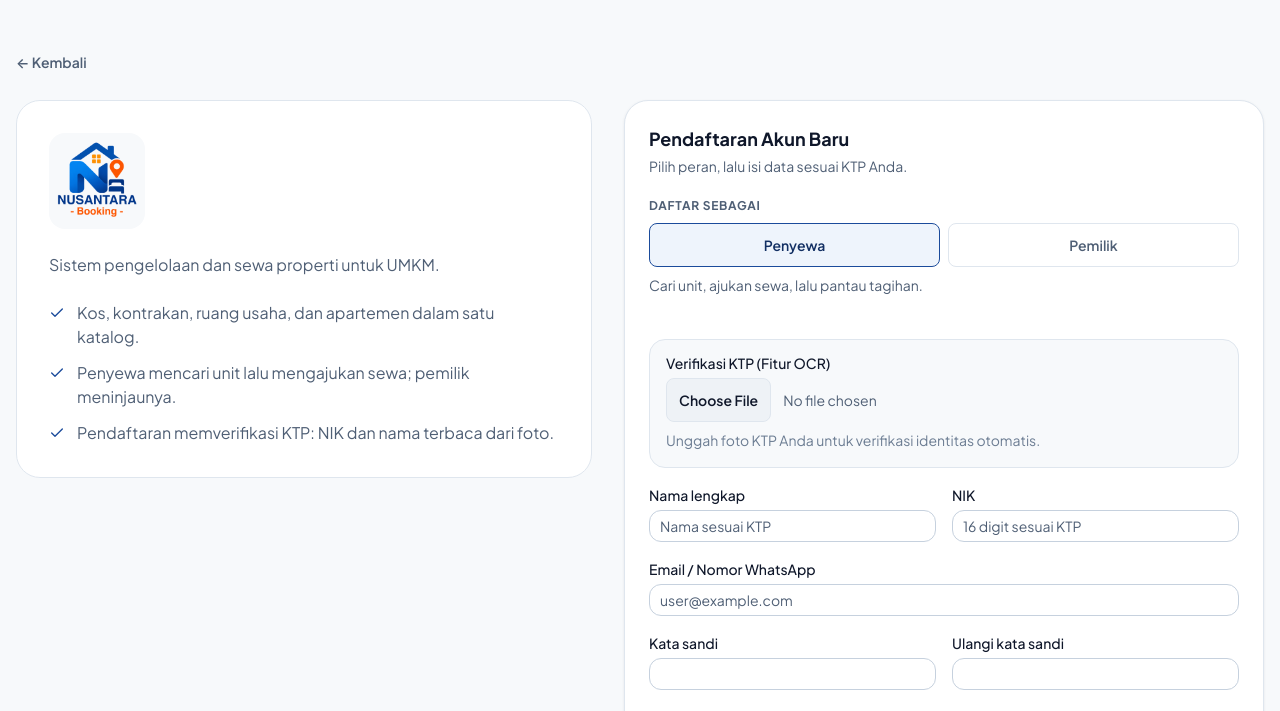
it: RegisterPage › menolak pendaftaran bila NIK bukan 16 digit
This screenshot has width=1280, height=711.
Type "Budi Santoso" into the field labelled "Nama lengkap" at {"x": 792, "y": 526}, box [649,510,936,542]
Type "3578123456780001" into the field labelled "NIK" at {"x": 1096, "y": 526}, box [952,510,1239,542]
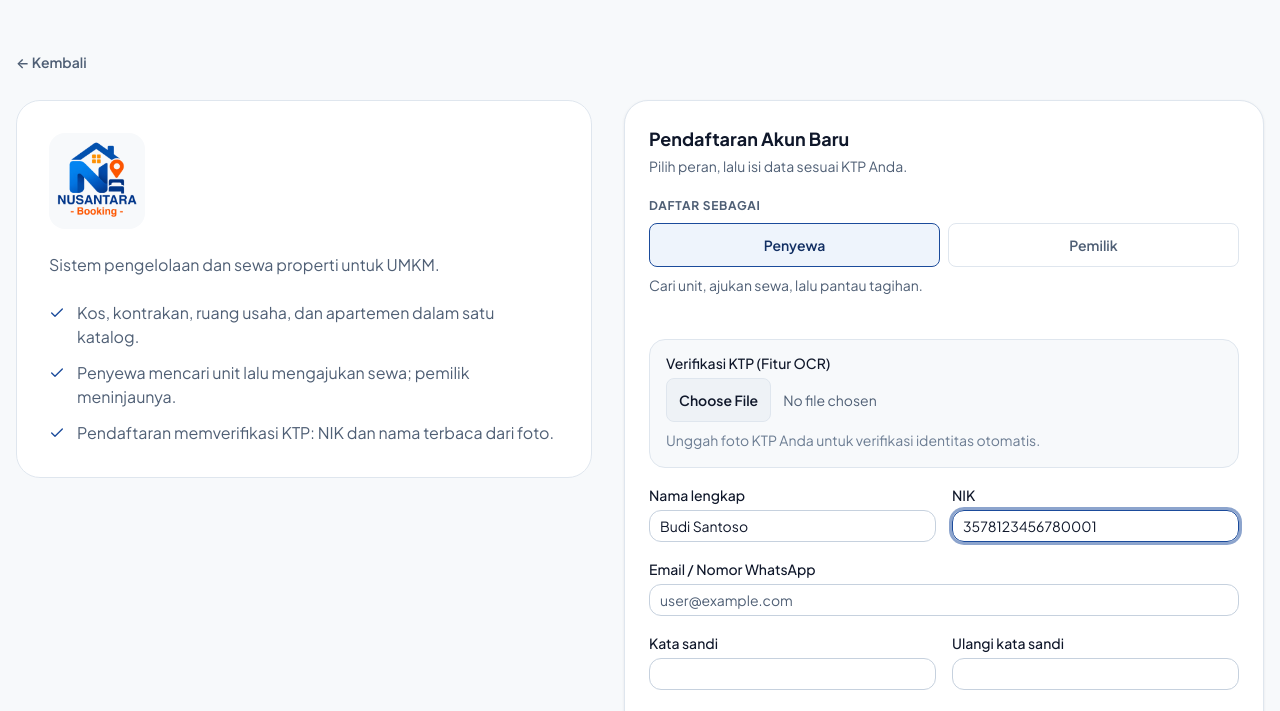
Type "baru@mail.com" into the field labelled "Email / Nomor WhatsApp" at {"x": 944, "y": 600}, box [649,584,1239,616]
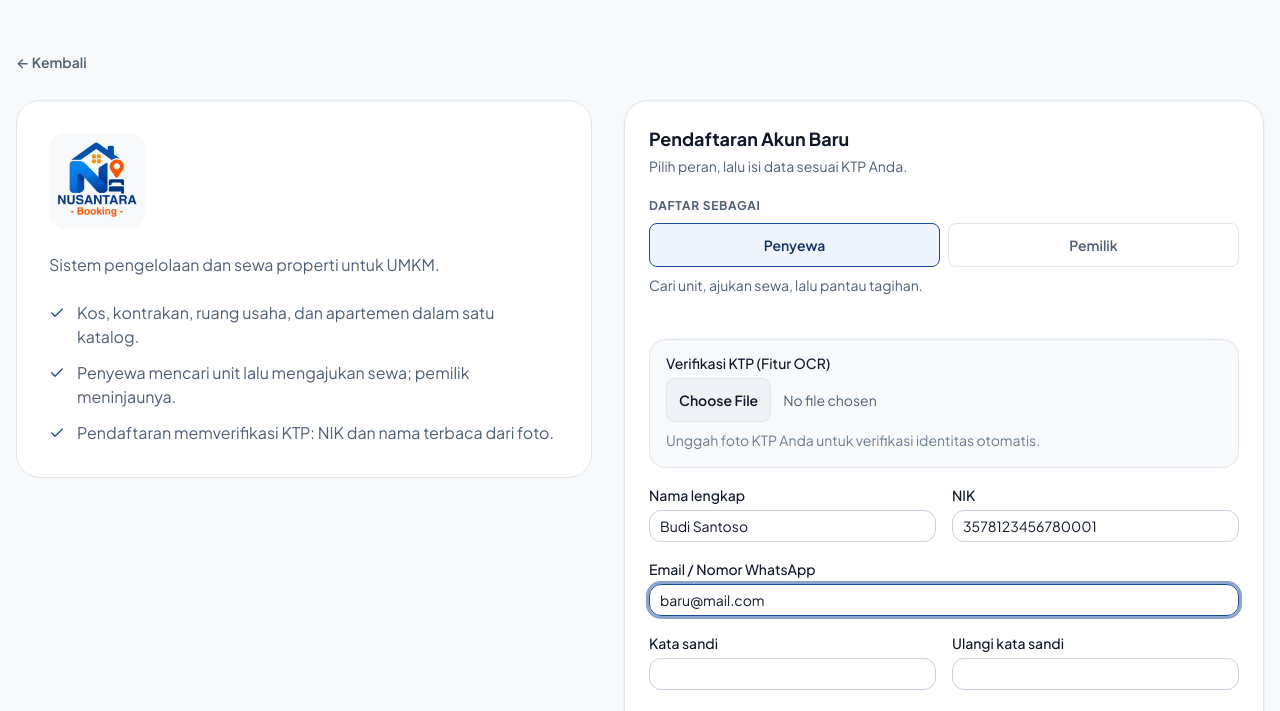
Type "rahasia123" into the password field labelled "Kata sandi" at {"x": 792, "y": 674}, box [649,658,936,690]
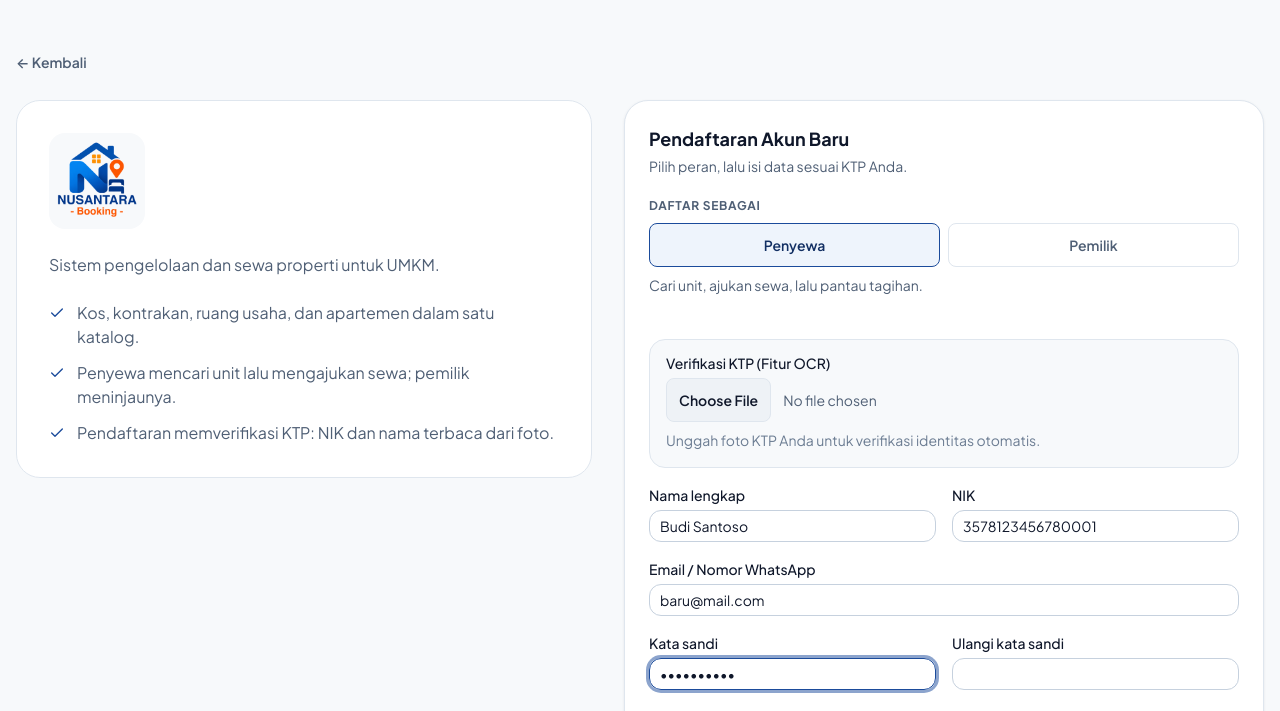
Type "rahasia123" into the password field labelled "Ulangi kata sandi" at {"x": 1096, "y": 674}, box [952,658,1239,690]
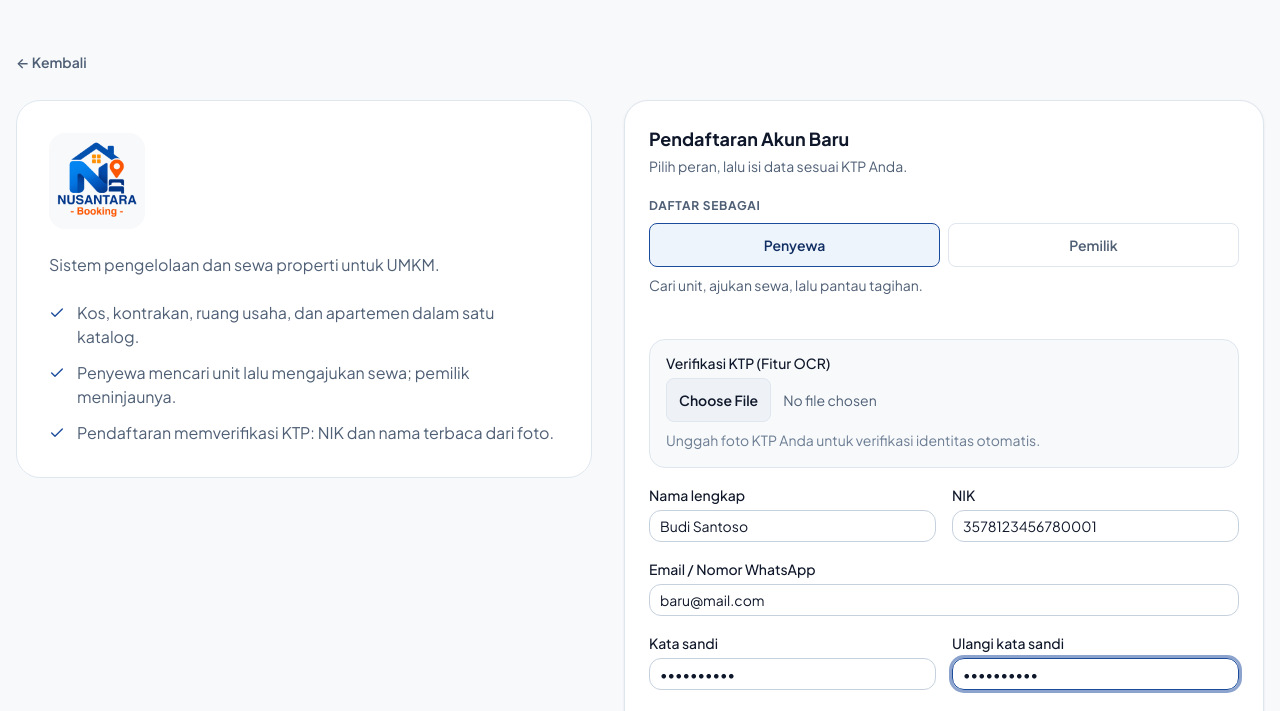
Replace the text in the field labelled "NIK" with "123" at {"x": 1096, "y": 526}, box [952,510,1239,542]
(page scrolled)
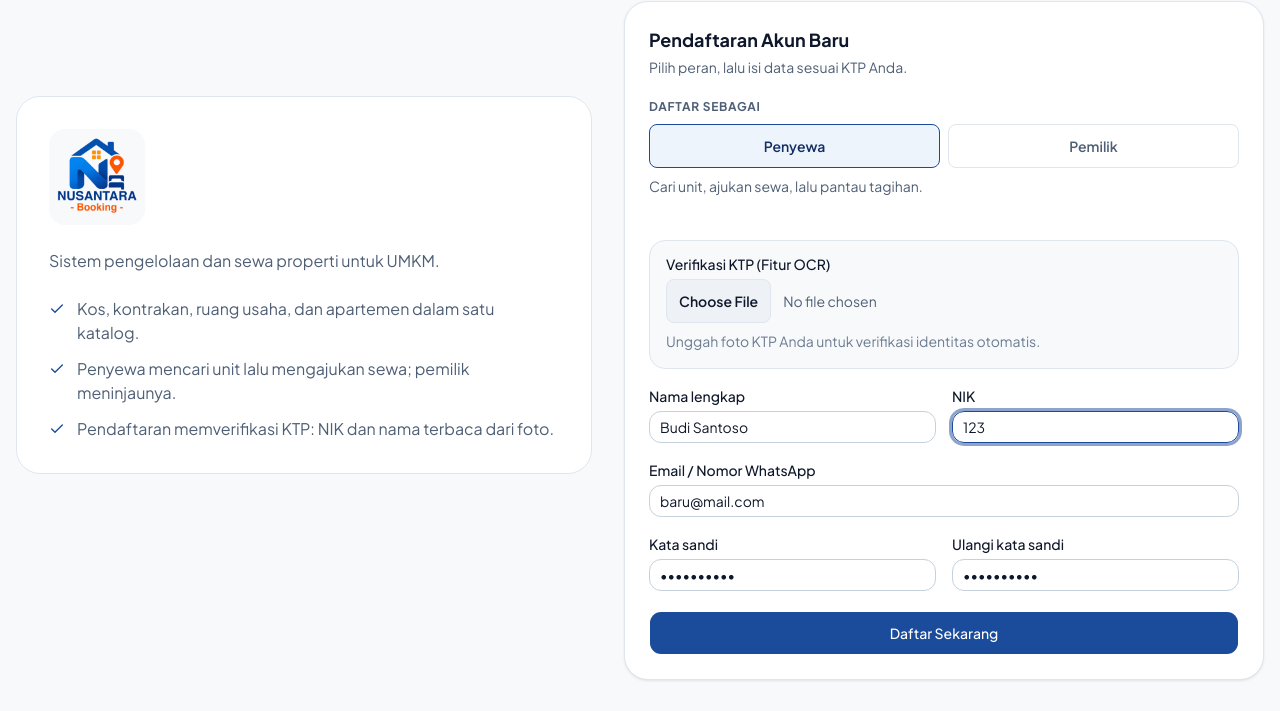
Click the button "Daftar Sekarang" at {"x": 944, "y": 633}, box [649,611,1239,655]
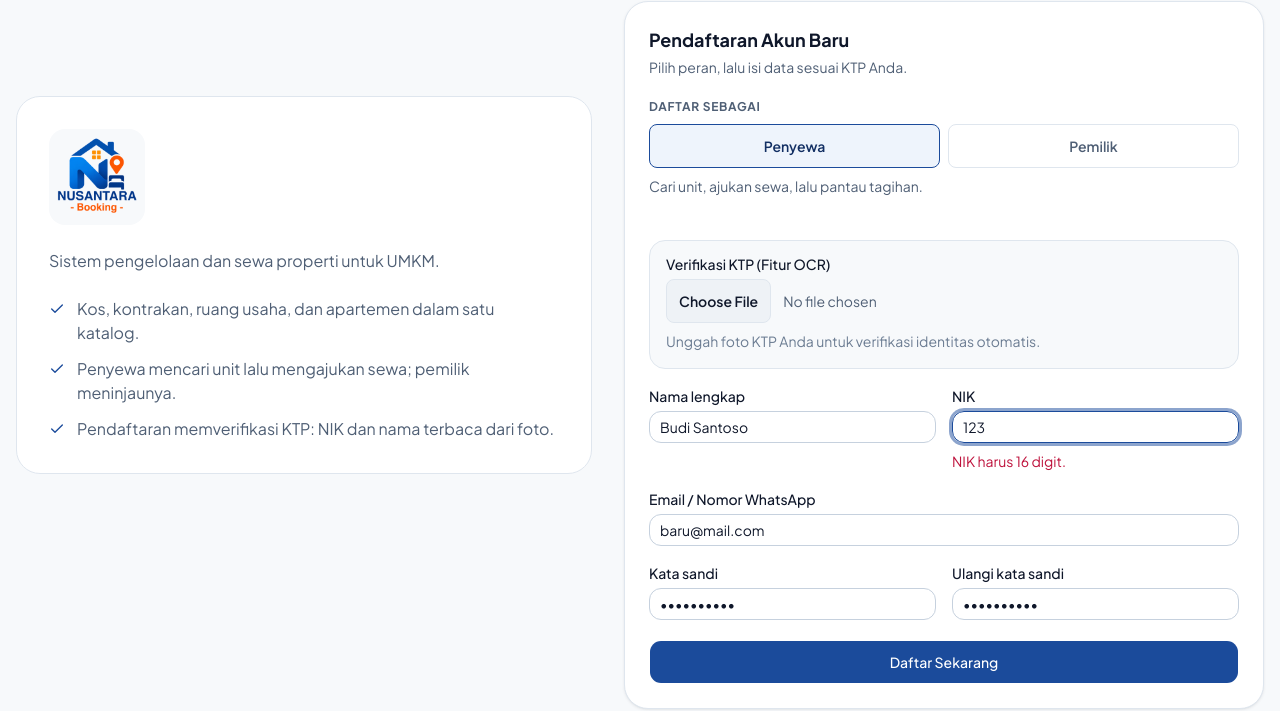
Now the text "NIK harus 16 digit." is shown, box [952,452,1066,470]
